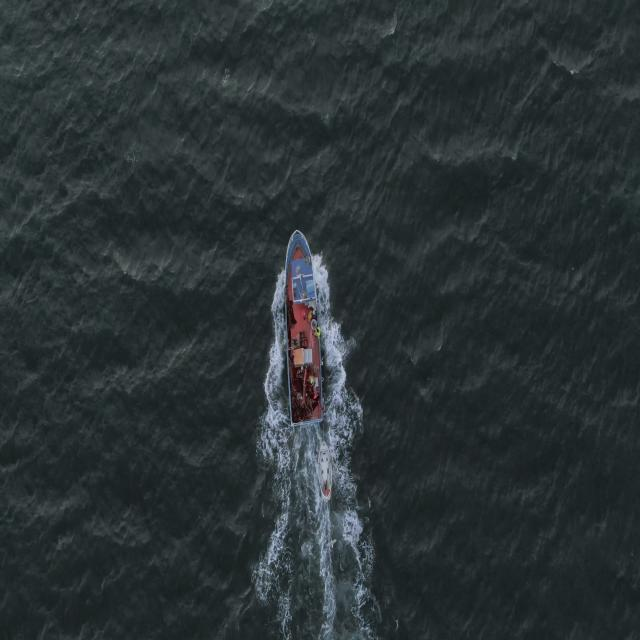ship: (276, 218, 326, 434), (316, 440, 334, 500)
